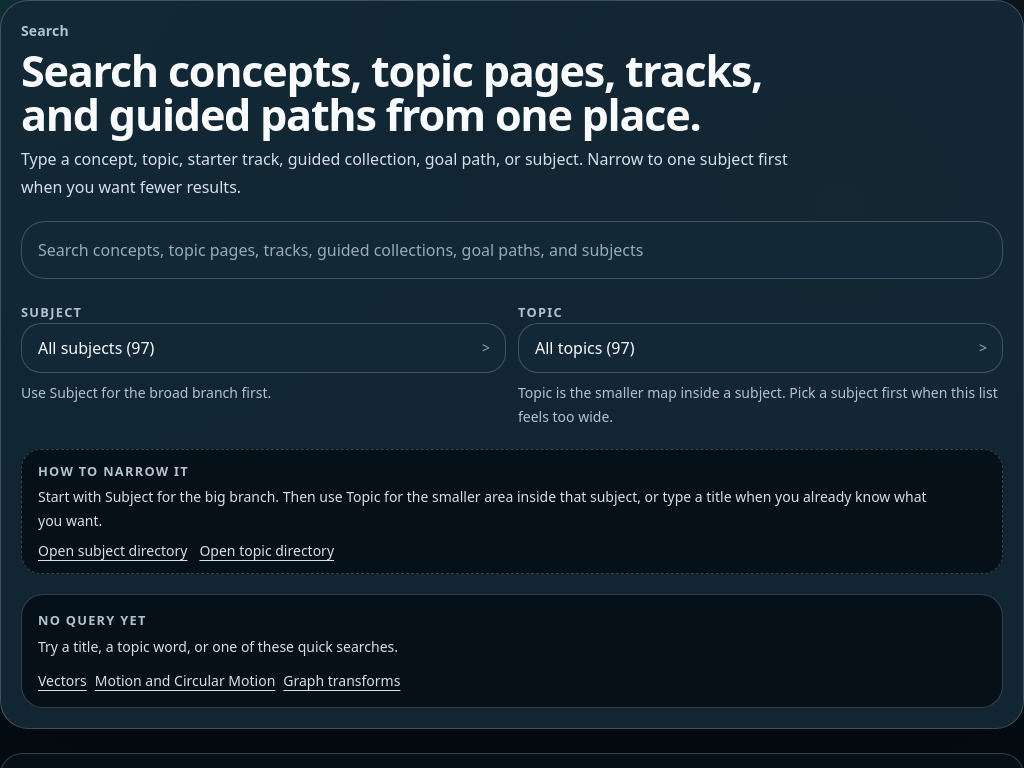
it: SearchPage › returns concept and starter-track hits through the shared canonical route
Type "vectors" into the search field named "search the site" at (512, 250), box [21,221,1003,279]
(page scrolled)
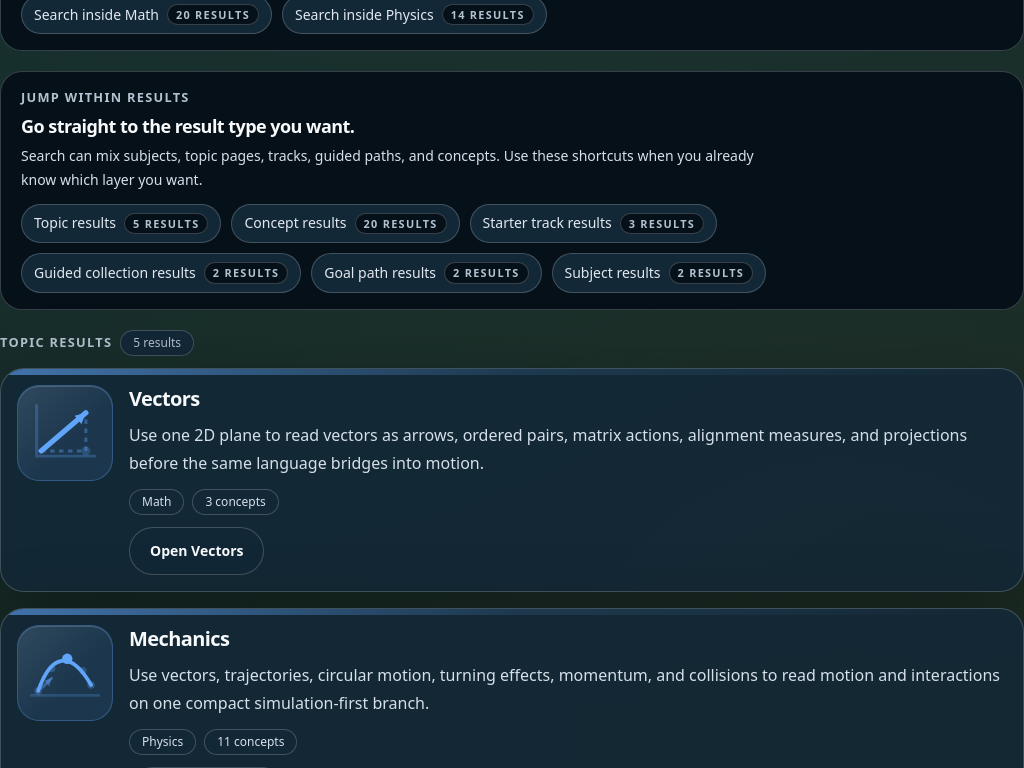
Expected: the picture named "Vectors" is shown, [17,385,113,481]
